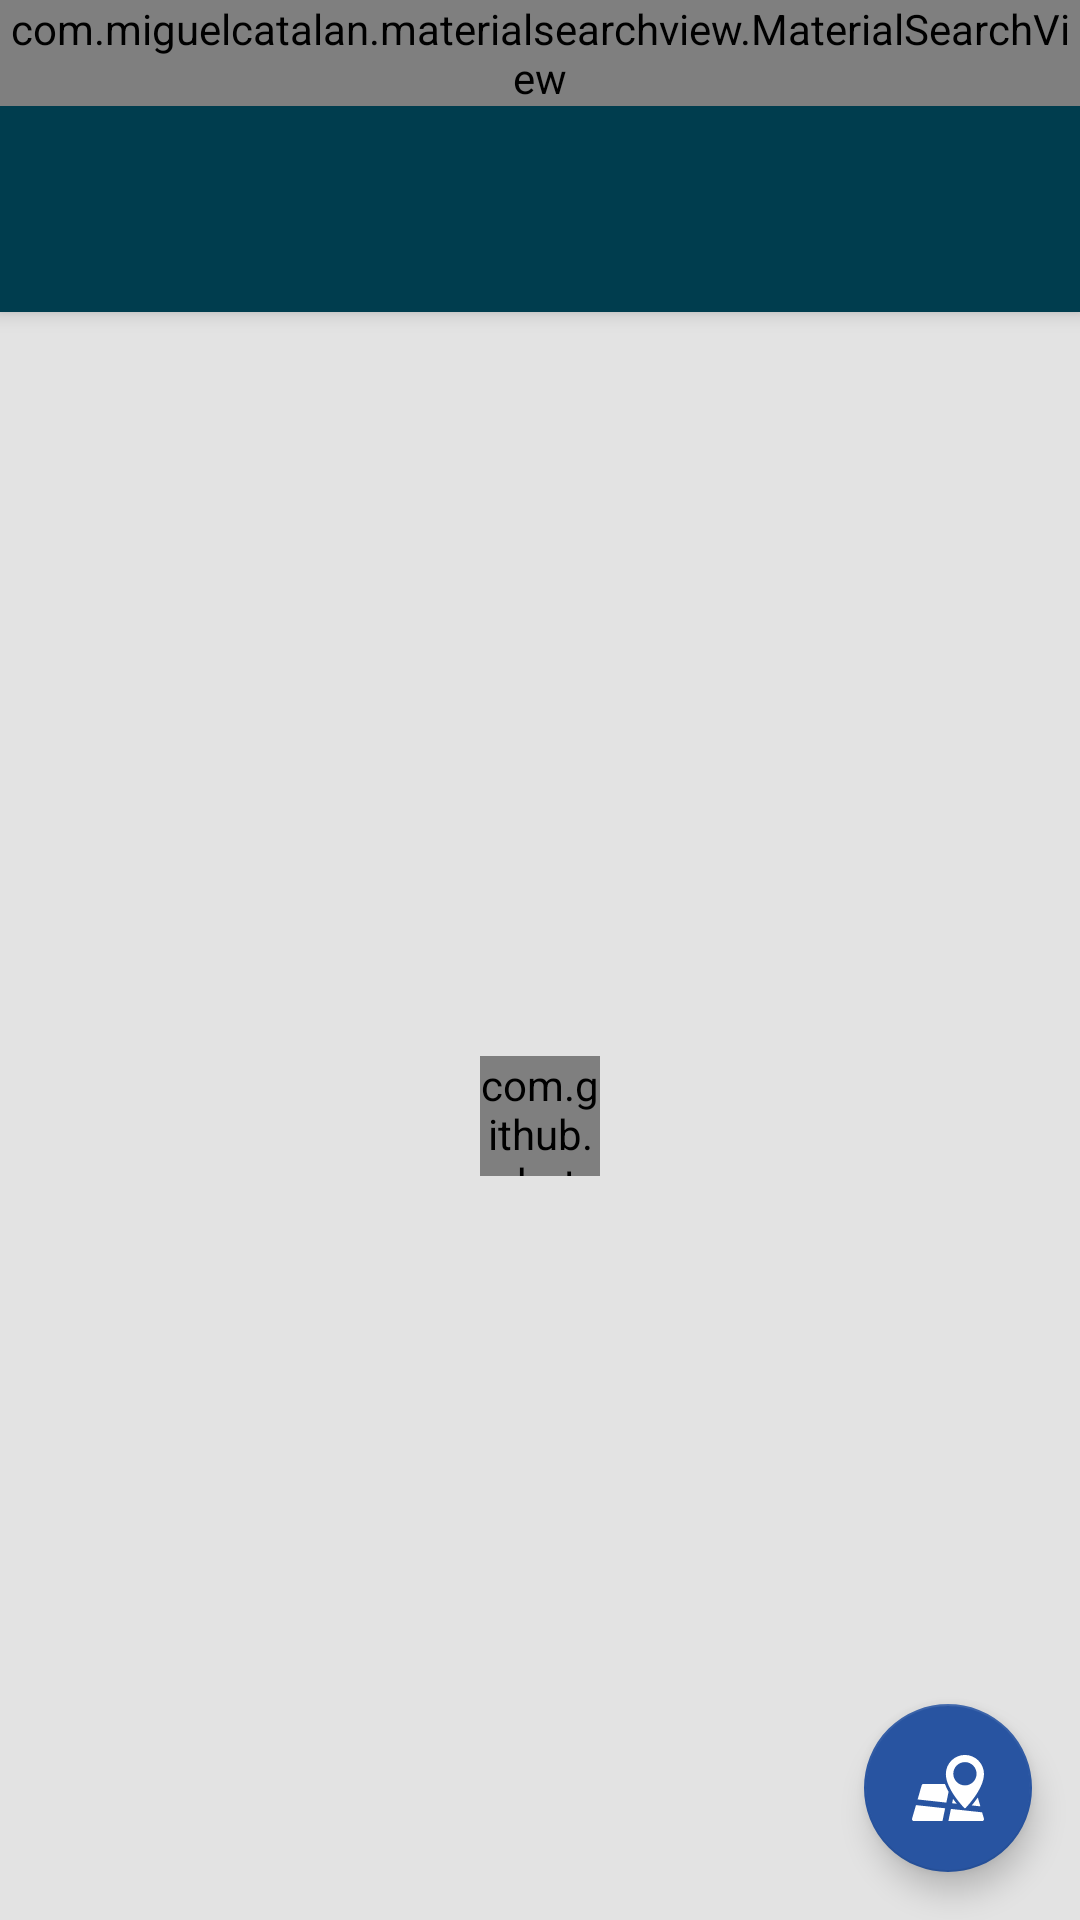

Screen size 1080x1920. Icon name, then its box in pixels as (x1, y1, x2, y2):
map: (864, 1704, 1032, 1872)
